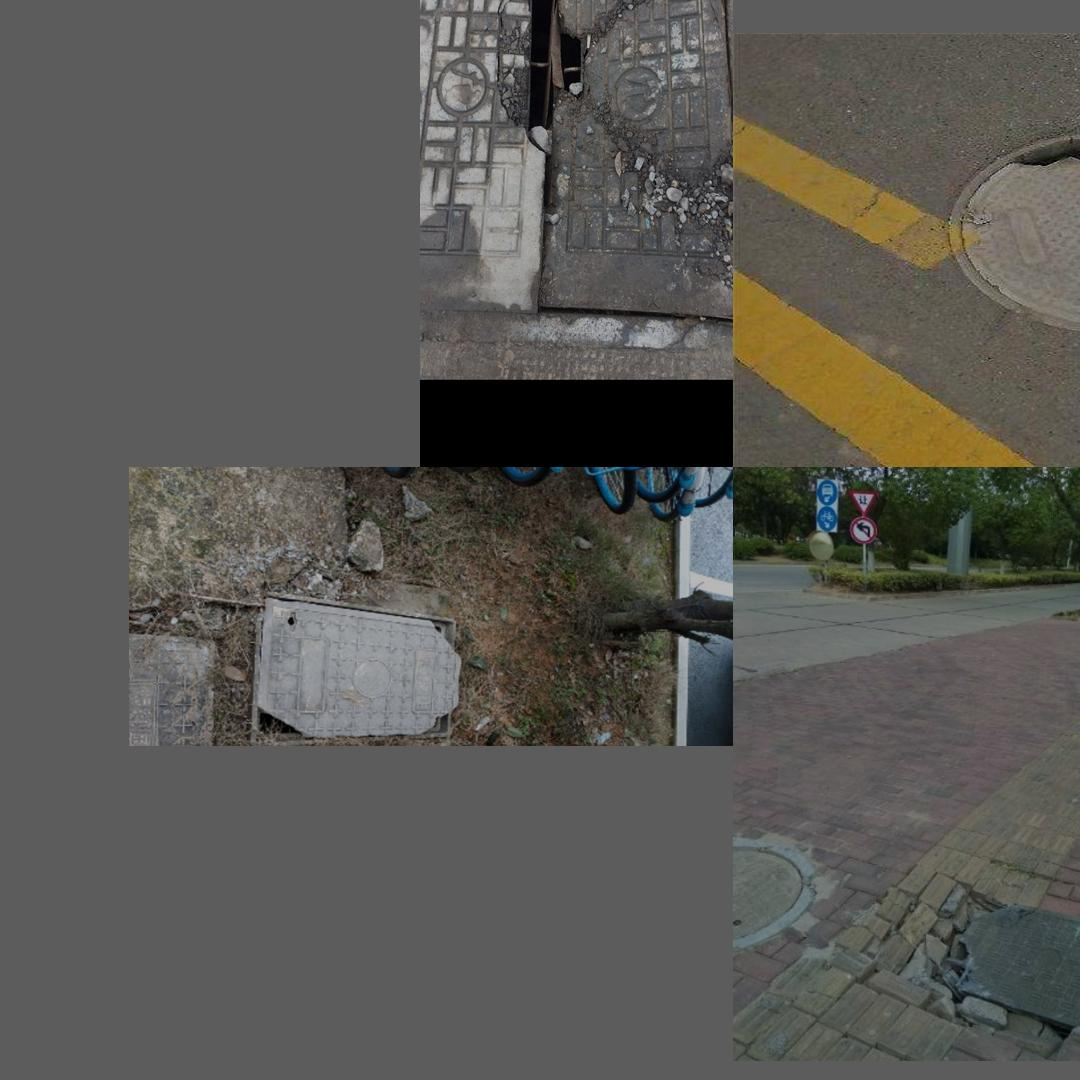broke: (422, 0, 732, 358), (906, 885, 1080, 1061), (245, 615, 466, 738), (949, 130, 1080, 334)
good: (734, 835, 812, 945)
